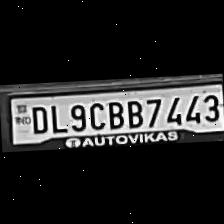3: (200, 88, 220, 122)
4: (160, 92, 182, 124), (180, 90, 200, 122)
7: (142, 93, 162, 126)
9: (64, 98, 88, 130)
B: (122, 94, 144, 128), (104, 96, 124, 128)
C: (86, 97, 106, 128)
D: (25, 100, 49, 132)
L: (46, 99, 66, 131)
